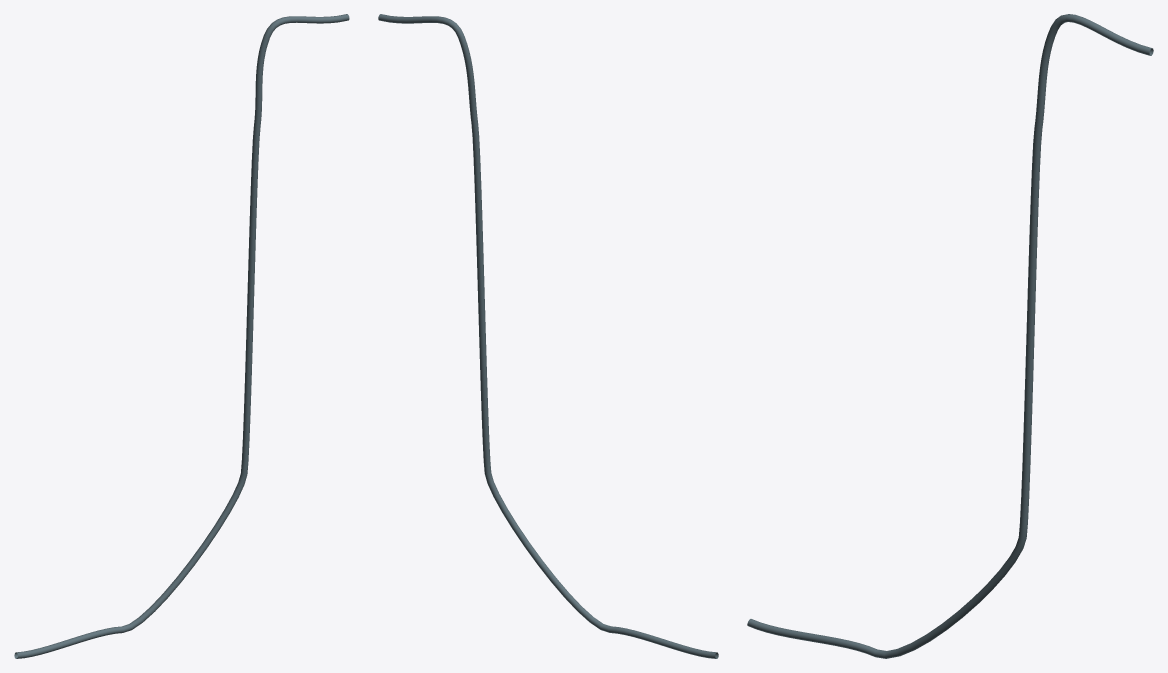
File: ElecWire13.fbx
The picture shows the model from 3 angles, left to right: view 1: azimuth 30°, elevation 25°; view 2: azimuth 150°, elevation 25°; view 3: azimuth 330°, elevation 25°; orthographic projection. The views are drawn at different scales.
Parts seen in each view (by area): view 1: ElecWire13_LOD0; view 2: ElecWire13_LOD0; view 3: ElecWire13_LOD0.
Part boxes in pixels (x1,y1,x2,y2): ElecWire13_LOD0: [14, 14, 349, 658]; ElecWire13_LOD0: [378, 14, 718, 658]; ElecWire13_LOD0: [747, 14, 1153, 658].
Size of what is drawn, in the model's own units: 824 by 1357 by 22.57.
